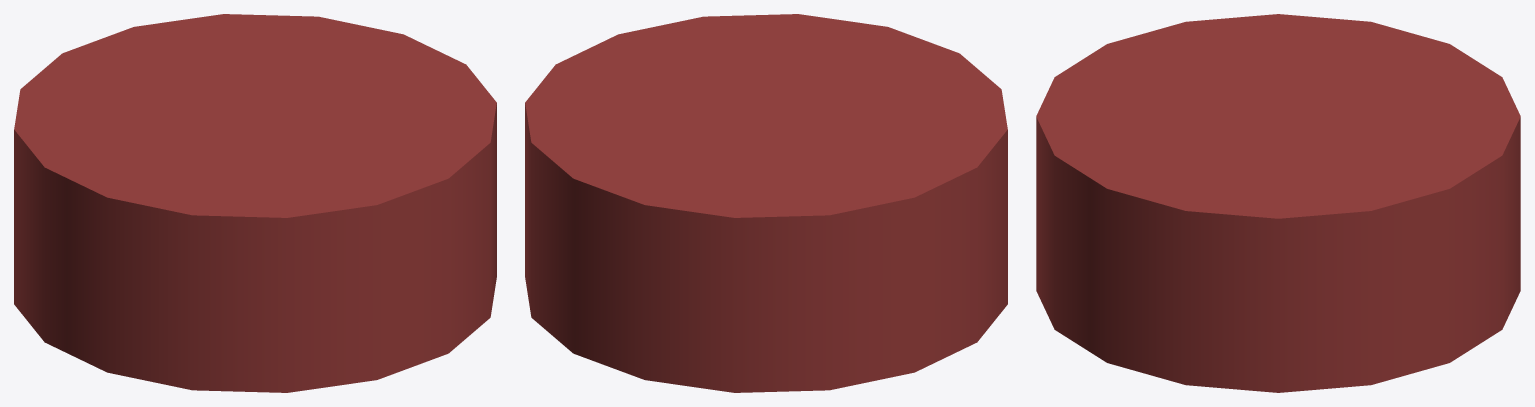
The model's file is button.fbx.
The picture shows the model from 3 angles, left to right: view 1: azimuth 30°, elevation 25°; view 2: azimuth 150°, elevation 25°; view 3: azimuth 270°, elevation 25°; orthographic projection.
Parts seen in each view (by area): view 1: Button; view 2: Button; view 3: Button.
Boxes of the visible parts, left/top/right/bottom form: Button: left=14, top=14, right=496, bottom=392; Button: left=525, top=14, right=1007, bottom=392; Button: left=1036, top=14, right=1520, bottom=392.
Size of the model in its own units: 44.44 by 17.63 by 44.44.
